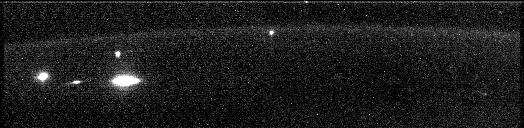positive: (110, 47, 124, 60)
